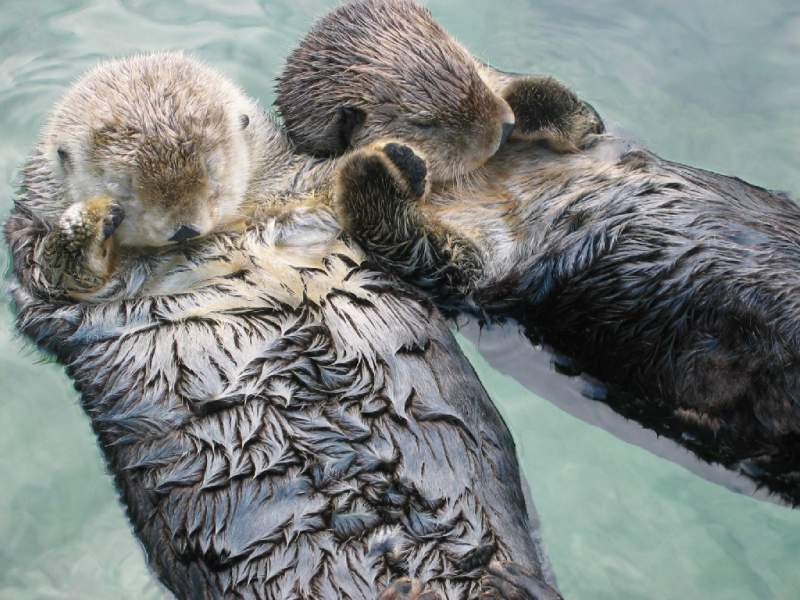otter: (278, 1, 800, 566), (19, 56, 553, 600)
